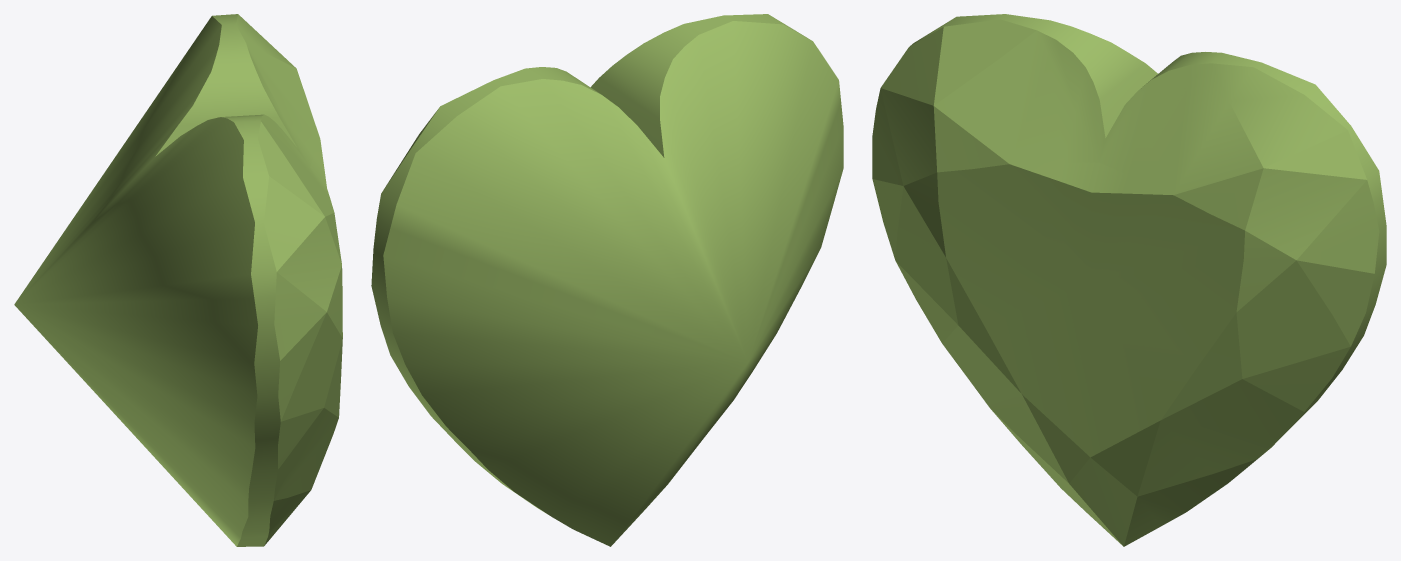
The model's file is BR5_8shapes_heart_Classic_Stone.001 2.glb.
The picture shows the model from 3 angles, left to right: view 1: azimuth 30°, elevation 25°; view 2: azimuth 150°, elevation 25°; view 3: azimuth 270°, elevation 25°; orthographic projection. The views are drawn at different scales.
Visible parts, largest first — view 1: BR5_8shapes_heart_Classic_Stone.001; view 2: BR5_8shapes_heart_Classic_Stone.001; view 3: BR5_8shapes_heart_Classic_Stone.001.
Boxes of the visible parts, bbox=[...] form: BR5_8shapes_heart_Classic_Stone.001: bbox=[14, 14, 342, 546]; BR5_8shapes_heart_Classic_Stone.001: bbox=[371, 14, 843, 546]; BR5_8shapes_heart_Classic_Stone.001: bbox=[872, 14, 1386, 546].
Bounding box in the file's own units: 0.3168 × 0.4603 × 0.4317.
